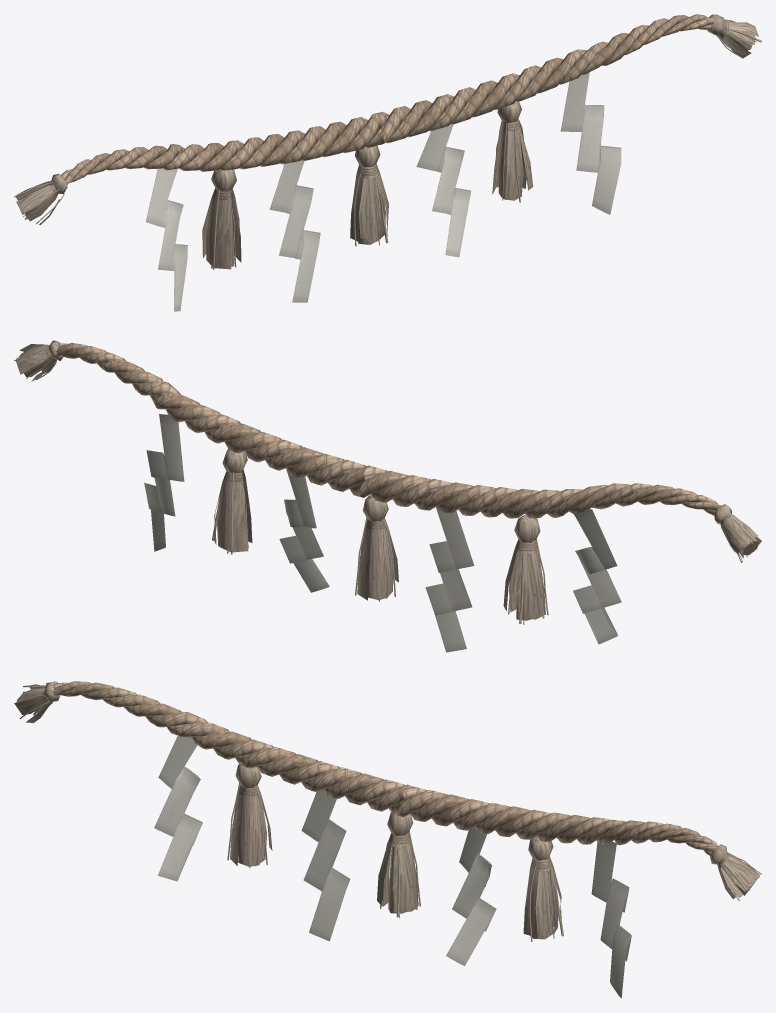
Rendered from Torii_Accessory_Shimenawa2.fbx.
The picture shows the model from 3 angles, top to bottom: view 1: azimuth 30°, elevation 25°; view 2: azimuth 150°, elevation 25°; view 3: azimuth 330°, elevation 25°; orthographic projection.
Parts seen in each view (by area): view 1: Torii_access_shimenawa2; view 2: Torii_access_shimenawa2; view 3: Torii_access_shimenawa2.
Part boxes in pixels (x1,y1,x2,y2): Torii_access_shimenawa2: [14, 14, 761, 311]; Torii_access_shimenawa2: [14, 340, 761, 652]; Torii_access_shimenawa2: [14, 681, 761, 998].
Bounding box in the file's own units: 3.58 × 0.9717 × 0.3115.
